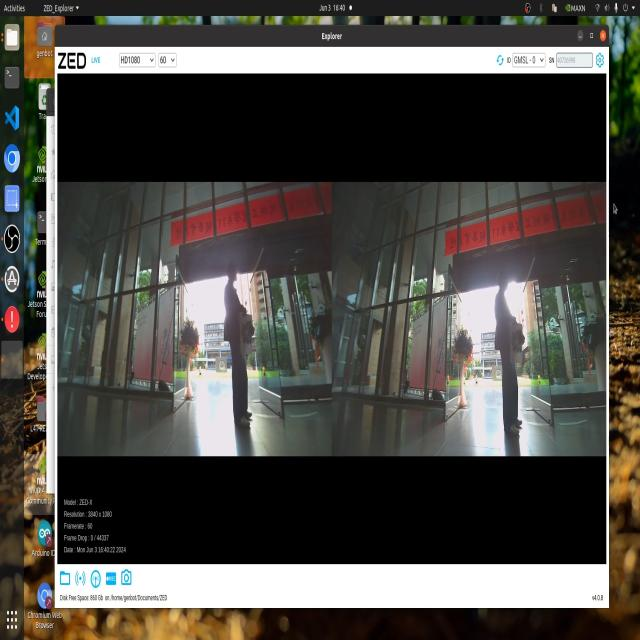green: (508, 326, 525, 363), (242, 315, 255, 352)
